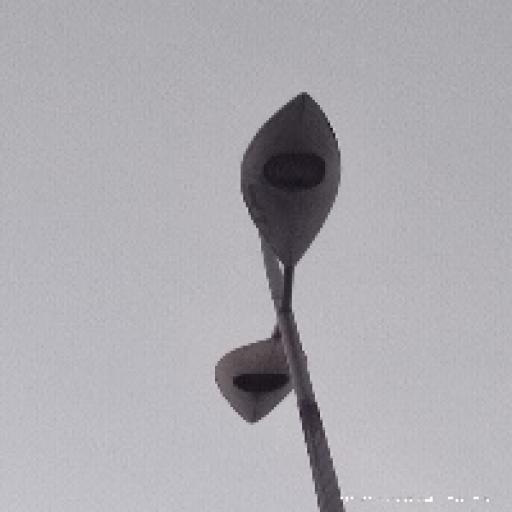Not Working: (222, 84, 368, 274), (204, 330, 330, 436)
